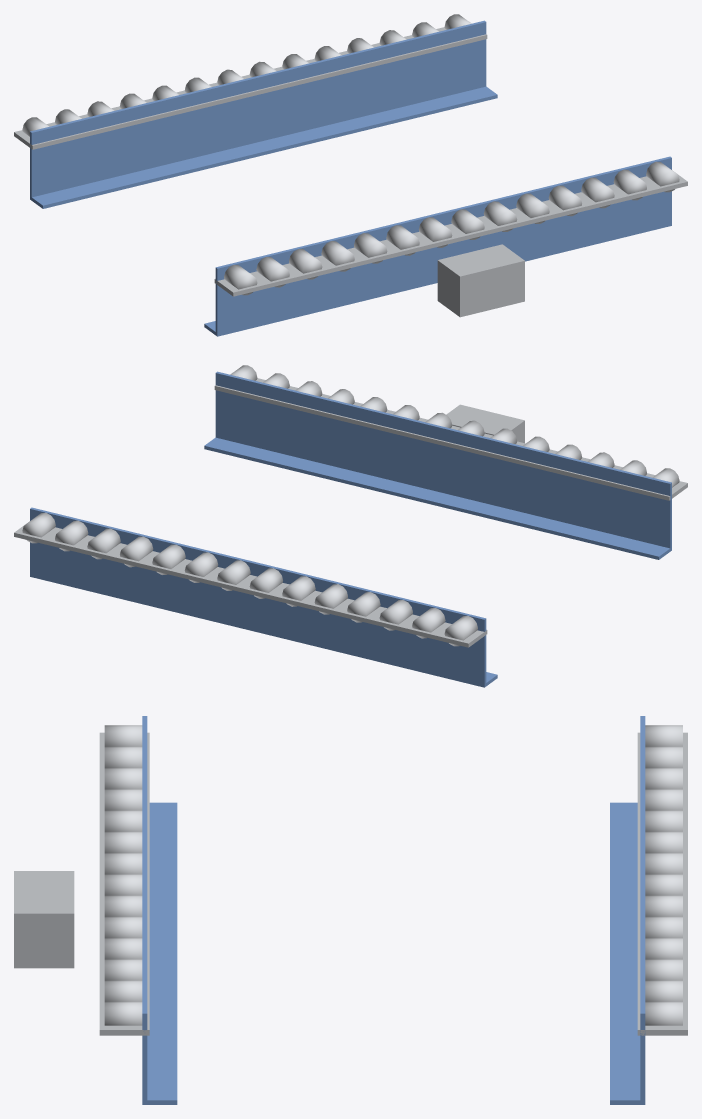
Rendered from PDStation.fbx.
3 renders of one model, top to bottom at view 1: azimuth 30°, elevation 25°; view 2: azimuth 150°, elevation 25°; view 3: azimuth 270°, elevation 25°, orthographic. The views are drawn at different scales.
Visible parts, largest first — view 1: PD_Web_R, PD_Web_L, PD_Track_R, DriveMotor, PD_RollerFrame_L, PD_RollerFrame_R, PD_Roller_L_11, PD_Roller_L_12, PD_Roller_L_07, PD_Roller_L_01, PD_Roller_L_02, PD_Roller_L_04 (+8 smaller); view 2: PD_Web_L, PD_Web_R, PD_Track_L, PD_RollerFrame_R, PD_RollerFrame_L, DriveMotor, PD_Roller_R_11, PD_Roller_R_12, PD_Roller_R_07, PD_Roller_R_01, PD_Roller_R_02, PD_Roller_R_04 (+8 smaller); view 3: PD_Track_L, PD_Track_R, DriveMotor, PD_RollerFrame_L, PD_RollerFrame_R, PD_Web_R, PD_Web_L, PD_Roller_L_13, PD_Roller_R_13, PD_Roller_L_00, PD_Roller_L_04, PD_Roller_L_08 (+23 smaller).
Part boxes in pixels (bbox=[...]): PD_Web_R: bbox=[30, 20, 486, 199]; PD_Web_L: bbox=[215, 156, 671, 336]; PD_Track_R: bbox=[31, 86, 497, 208]; DriveMotor: bbox=[437, 244, 524, 317]; PD_RollerFrame_L: bbox=[214, 170, 687, 296]; PD_RollerFrame_R: bbox=[14, 22, 487, 149]; PD_Roller_L_11: bbox=[581, 177, 614, 208]; PD_Roller_L_12: bbox=[613, 169, 646, 200]; PD_Roller_L_07: bbox=[451, 209, 484, 239]; PD_Roller_L_01: bbox=[256, 257, 289, 287]; PD_Roller_L_02: bbox=[289, 249, 322, 279]; PD_Roller_L_04: bbox=[354, 233, 387, 263]; PD_Web_L: bbox=[215, 371, 671, 551]; PD_Web_R: bbox=[30, 507, 486, 687]; PD_Track_L: bbox=[204, 437, 670, 559]; PD_RollerFrame_R: bbox=[14, 521, 487, 647]; PD_RollerFrame_L: bbox=[214, 373, 687, 500]; DriveMotor: bbox=[446, 404, 524, 443]; PD_Roller_R_11: bbox=[87, 528, 120, 559]; PD_Roller_R_12: bbox=[55, 520, 88, 551]; PD_Roller_R_07: bbox=[217, 560, 250, 590]; PD_Roller_R_01: bbox=[412, 608, 445, 638]; PD_Roller_R_02: bbox=[379, 600, 412, 630]; PD_Roller_R_04: bbox=[314, 584, 347, 614]; PD_Track_L: bbox=[144, 802, 177, 1104]; PD_Track_R: bbox=[610, 802, 642, 1104]; DriveMotor: bbox=[14, 871, 74, 968]; PD_RollerFrame_L: bbox=[99, 732, 149, 1035]; PD_RollerFrame_R: bbox=[637, 732, 687, 1035]; PD_Web_R: bbox=[640, 716, 645, 1104]; PD_Web_L: bbox=[142, 716, 147, 1104]; PD_Roller_L_13: bbox=[104, 1001, 142, 1025]; PD_Roller_R_13: bbox=[645, 1001, 682, 1025]; PD_Roller_L_00: bbox=[104, 725, 142, 746]; PD_Roller_L_04: bbox=[104, 810, 142, 831]; PD_Roller_L_08: bbox=[104, 895, 142, 916].
Size of the model in its own units: 1.4 by 0.2 by 1.34.
